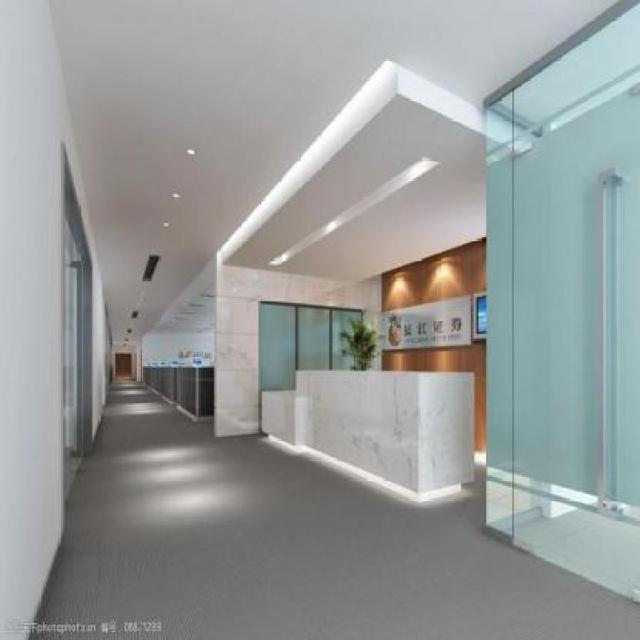frontdesk: (250, 358, 482, 508)
